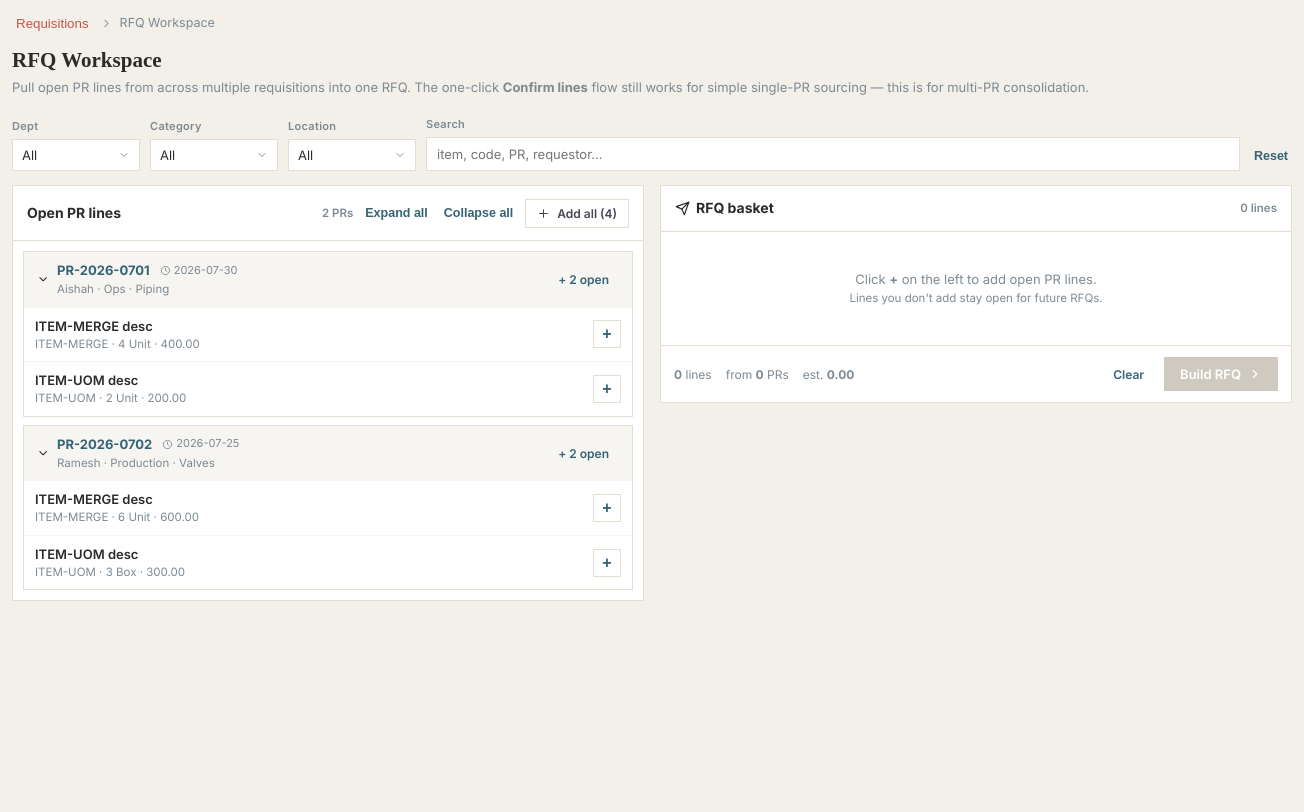
Test: Consolidate Lines (Slice C) › item 4 — Clear empties the basket and keeps the PR lines available in the pool
Step 1. Click the button named "Add ITEM-UOM from PR-2026-0701" → point(607, 389), box [593, 375, 621, 403]
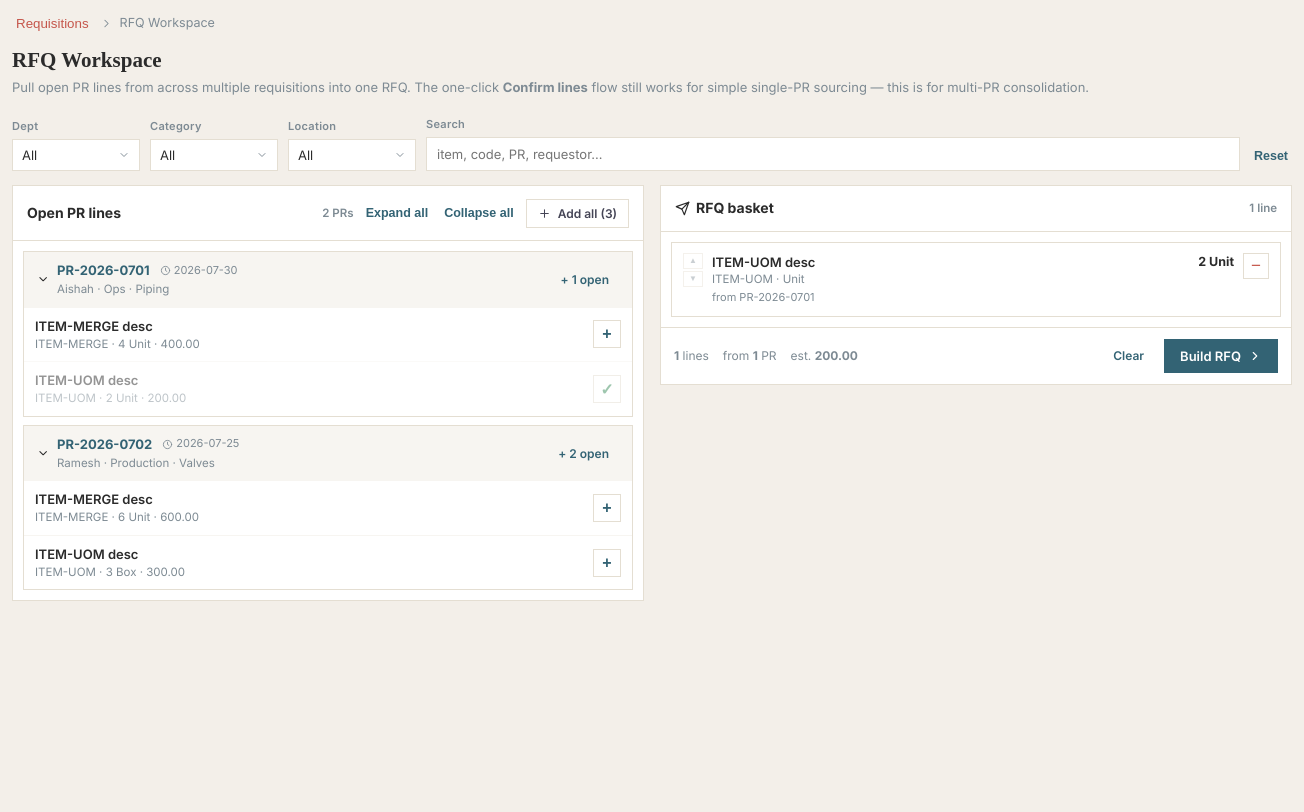
Now the button named "Add ITEM-UOM from PR-2026-0701" is disabled, box [593, 375, 621, 403]
Step 2. Click the button "Clear" → point(1129, 356), box [1101, 342, 1156, 370]
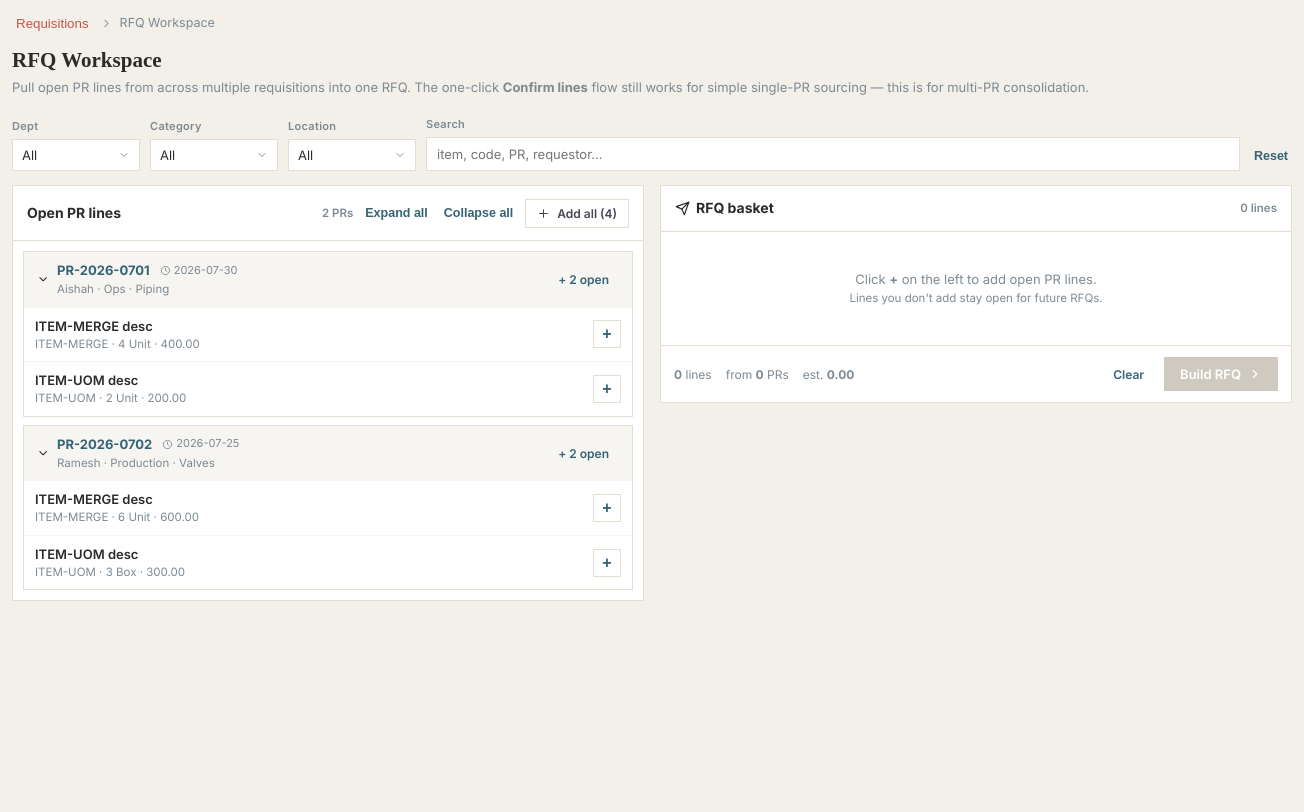
Now the button named "Add ITEM-UOM from PR-2026-0701" is enabled, box [593, 375, 621, 403]
